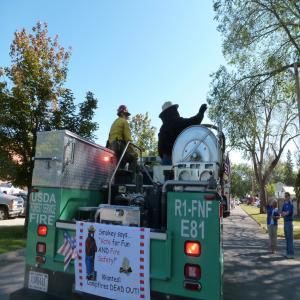Vehicle-registration-plate: (29, 272, 49, 295)
